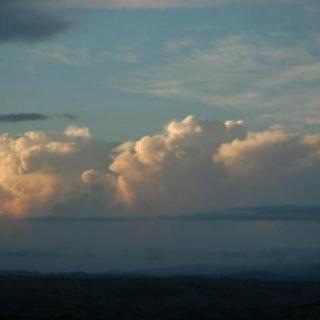Cumulonimbus: (0, 0, 320, 272)
